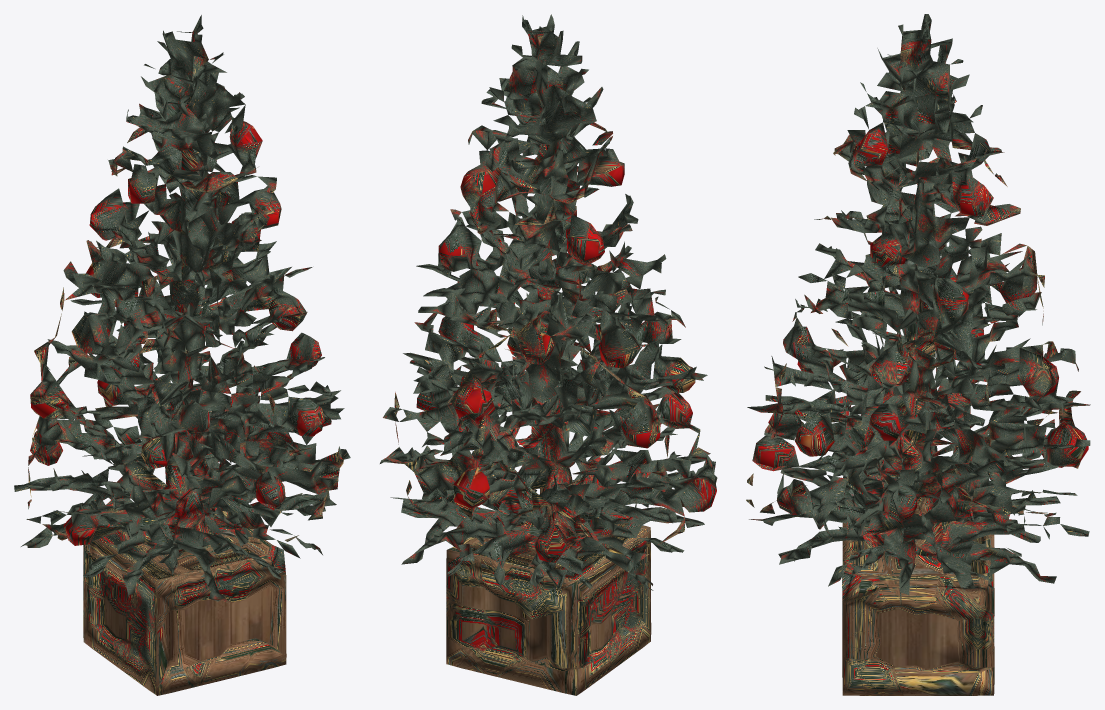
File: toit-sapin.glb
3 renders of one model, left to right at view 1: azimuth 30°, elevation 25°; view 2: azimuth 150°, elevation 25°; view 3: azimuth 270°, elevation 25°, orthographic. The views are drawn at different scales.
Size of the model in its own units: 0.8465 by 1.74 by 0.8389.
1 material, 1 textured.
